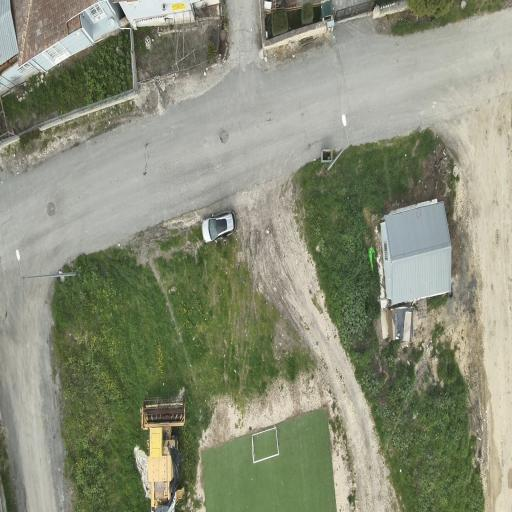car: (202, 211, 235, 242)
harvester: (142, 398, 185, 511)
